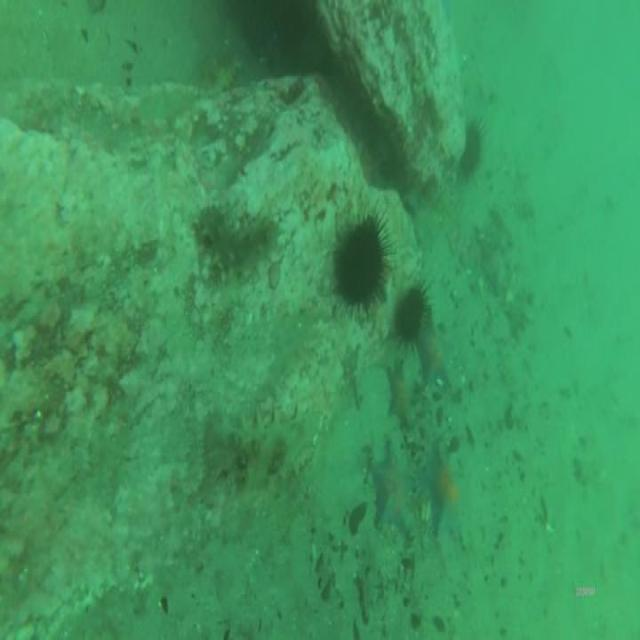echinus: (332, 207, 396, 322), (392, 278, 434, 349), (459, 118, 488, 182)
holothurian: (204, 398, 319, 493), (191, 199, 283, 288), (208, 54, 245, 95)
starfish: (418, 438, 468, 546), (369, 436, 416, 542), (415, 327, 457, 398), (385, 354, 416, 436)
